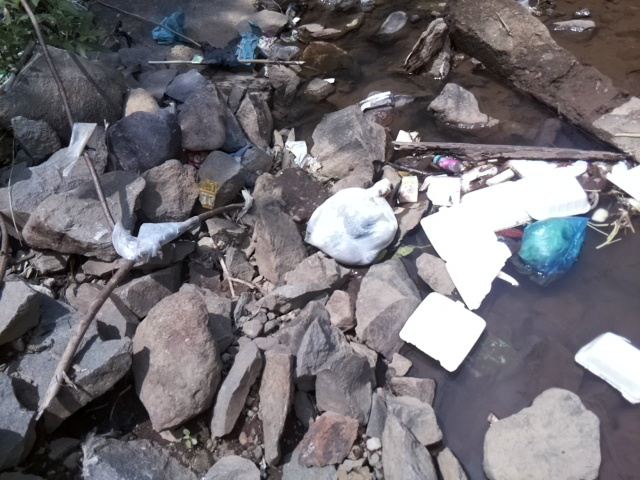Sampah_Plastik: (517, 210, 588, 287), (104, 213, 202, 268), (200, 29, 264, 67)
Sampah_Styrofoam: (415, 160, 593, 309), (396, 285, 489, 384), (573, 327, 640, 405)
